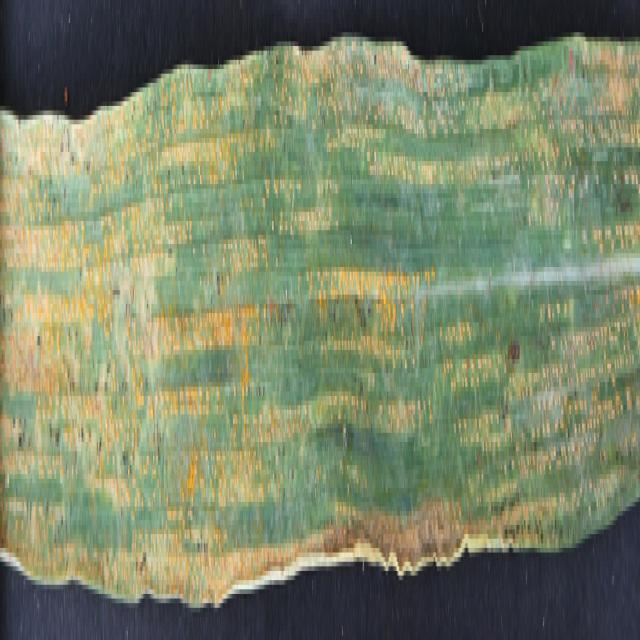leaf rust: (1, 5, 634, 594)
